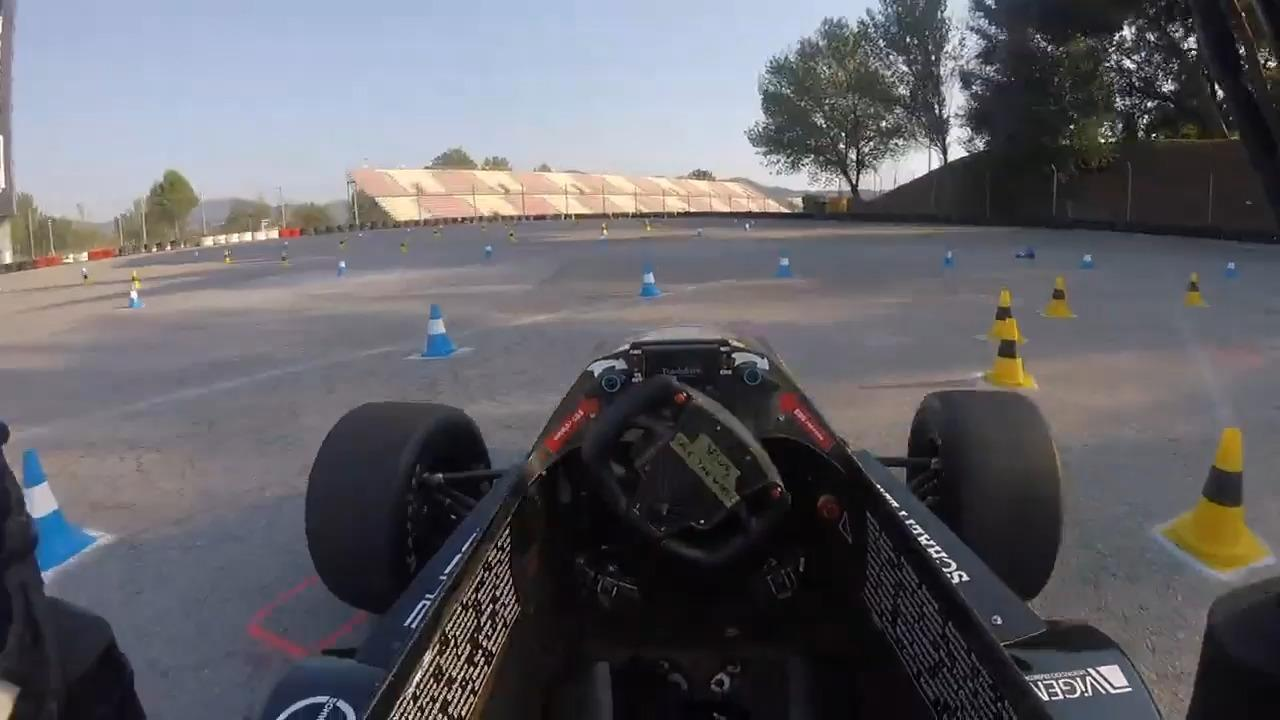blue_cone: (16, 450, 97, 576), (403, 303, 482, 369), (623, 256, 677, 303), (767, 243, 807, 281), (928, 239, 962, 271)
yellow_cone: (1172, 421, 1270, 575), (988, 314, 1035, 389), (1038, 267, 1081, 326), (984, 290, 1020, 344), (1173, 263, 1217, 302)
